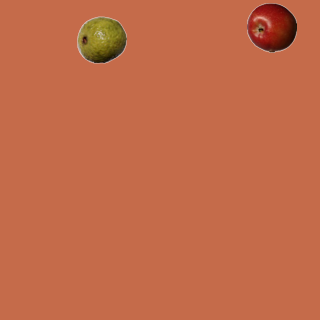Apple Braeburn: (246, 2, 296, 52)
Guava: (76, 14, 126, 64)
